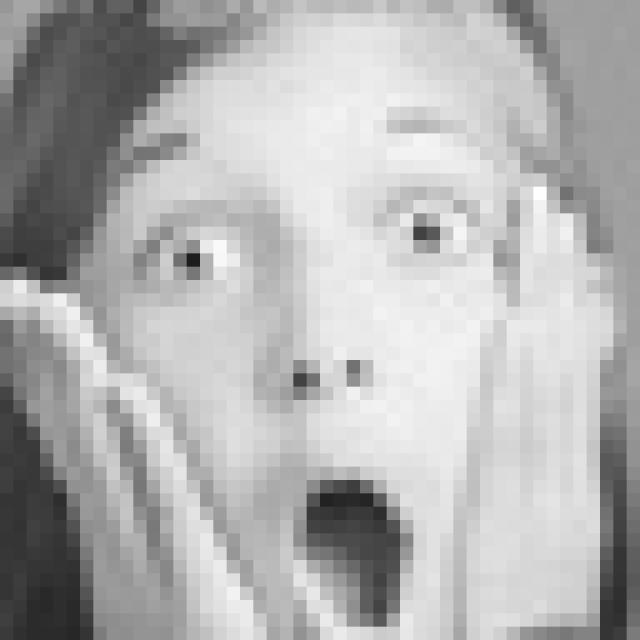surprise: (113, 119, 508, 640)
